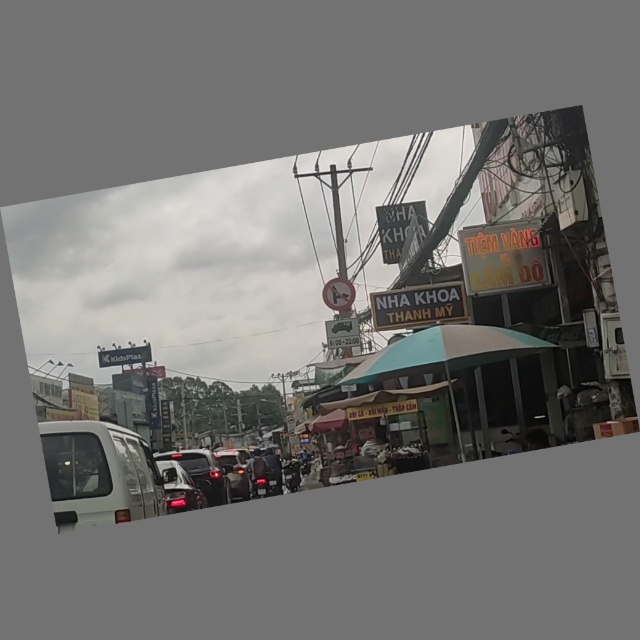P.139: (319, 275, 358, 314)
S.505a*Xe tai: (324, 318, 361, 351)
